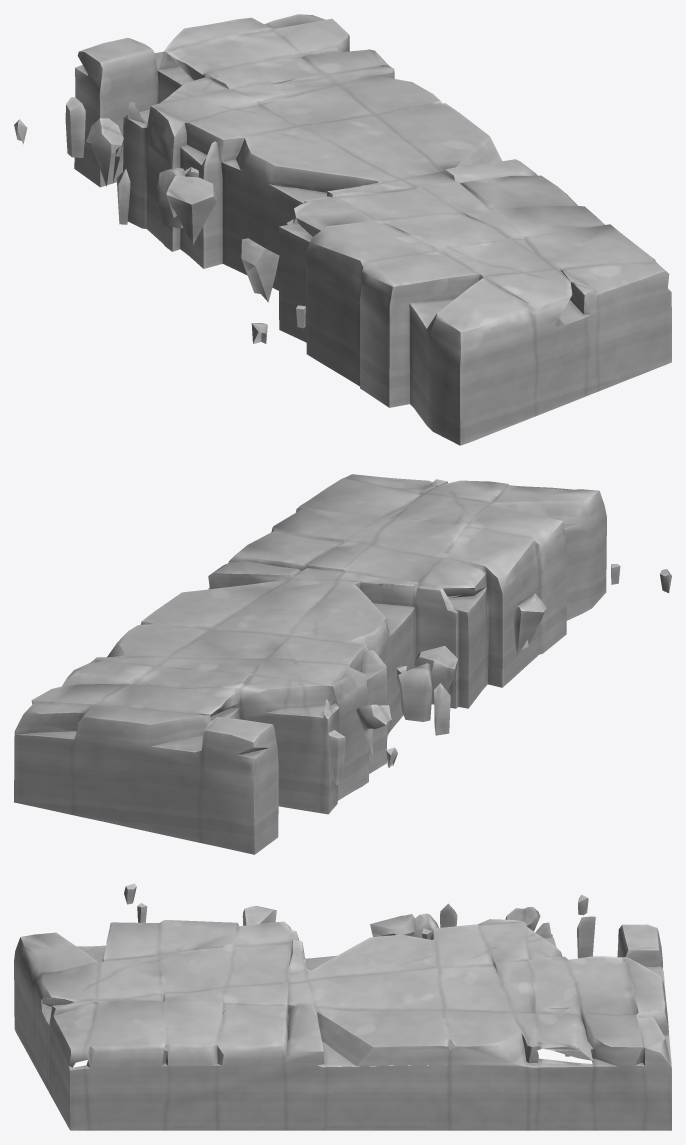
File: sculpted_step_02.glb
3 renders of one model, top to bottom at view 1: azimuth 30°, elevation 25°; view 2: azimuth 150°, elevation 25°; view 3: azimuth 270°, elevation 25°, orthographic. The views are drawn at different scales.
Parts seen in each view (by area): view 1: sculpted_step_02; view 2: sculpted_step_02; view 3: sculpted_step_02.
Part boxes in pixels (box(x1,y1,x2,y2)): sculpted_step_02: box(14, 14, 671, 445); sculpted_step_02: box(14, 474, 671, 854); sculpted_step_02: box(14, 883, 671, 1130).
Bounding box in the file's own units: 12.81 × 3.99 × 22.48.
1 material, 1 textured.
